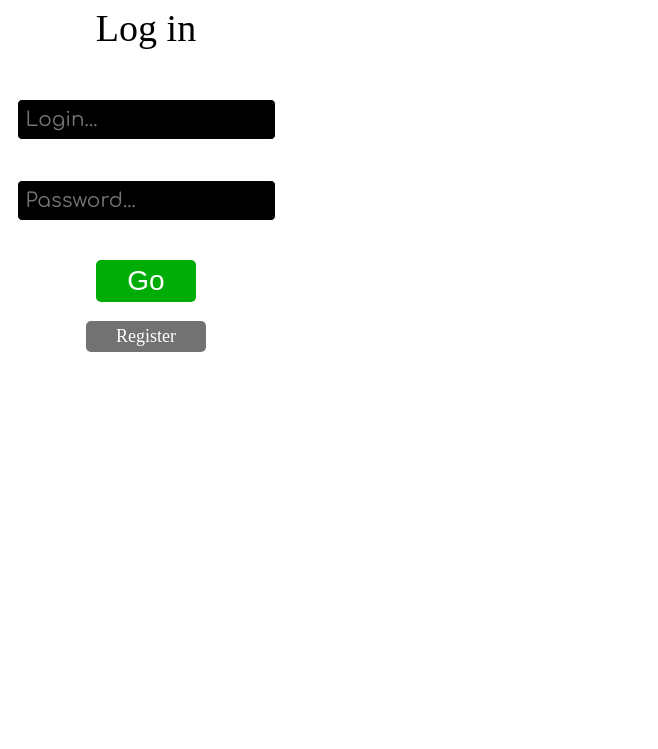
Test: Login component › should display error if user typed wrong credentials
Type "user1" into the field with test id "loginLogin".
click(146, 120); type("user1")  # box [16,99,276,140]
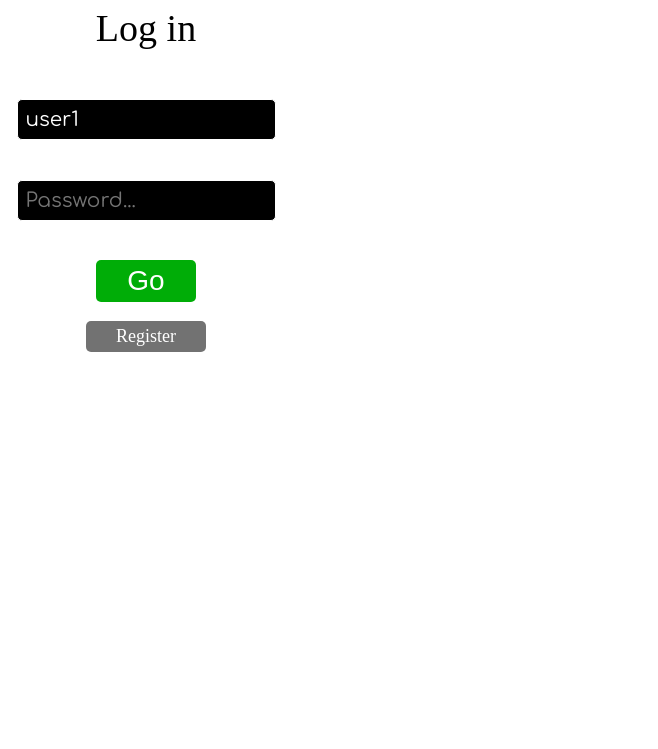
Type "password2" into the password field with test id "passwordLogin".
click(146, 200); type("password2")  # box [16,180,276,221]
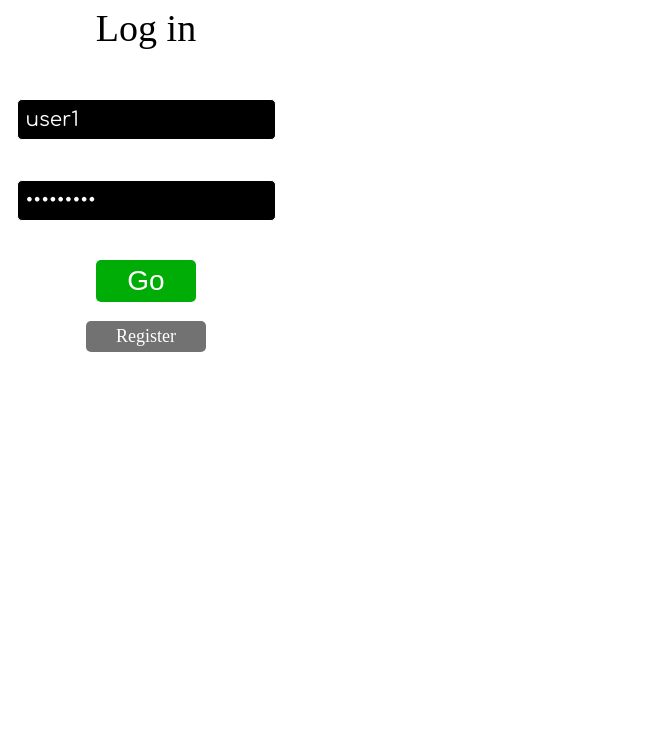
Click the button with test id "logInButton".
click(146, 281)  # box [96,260,196,302]
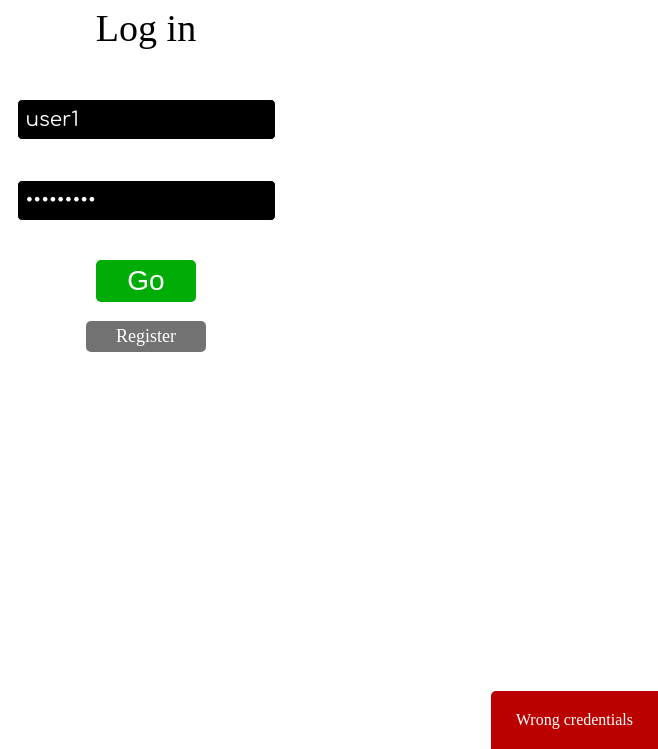
expect the element with test id "infoModal" reads "Wrong credentials": met, box [516,711,633,728]
